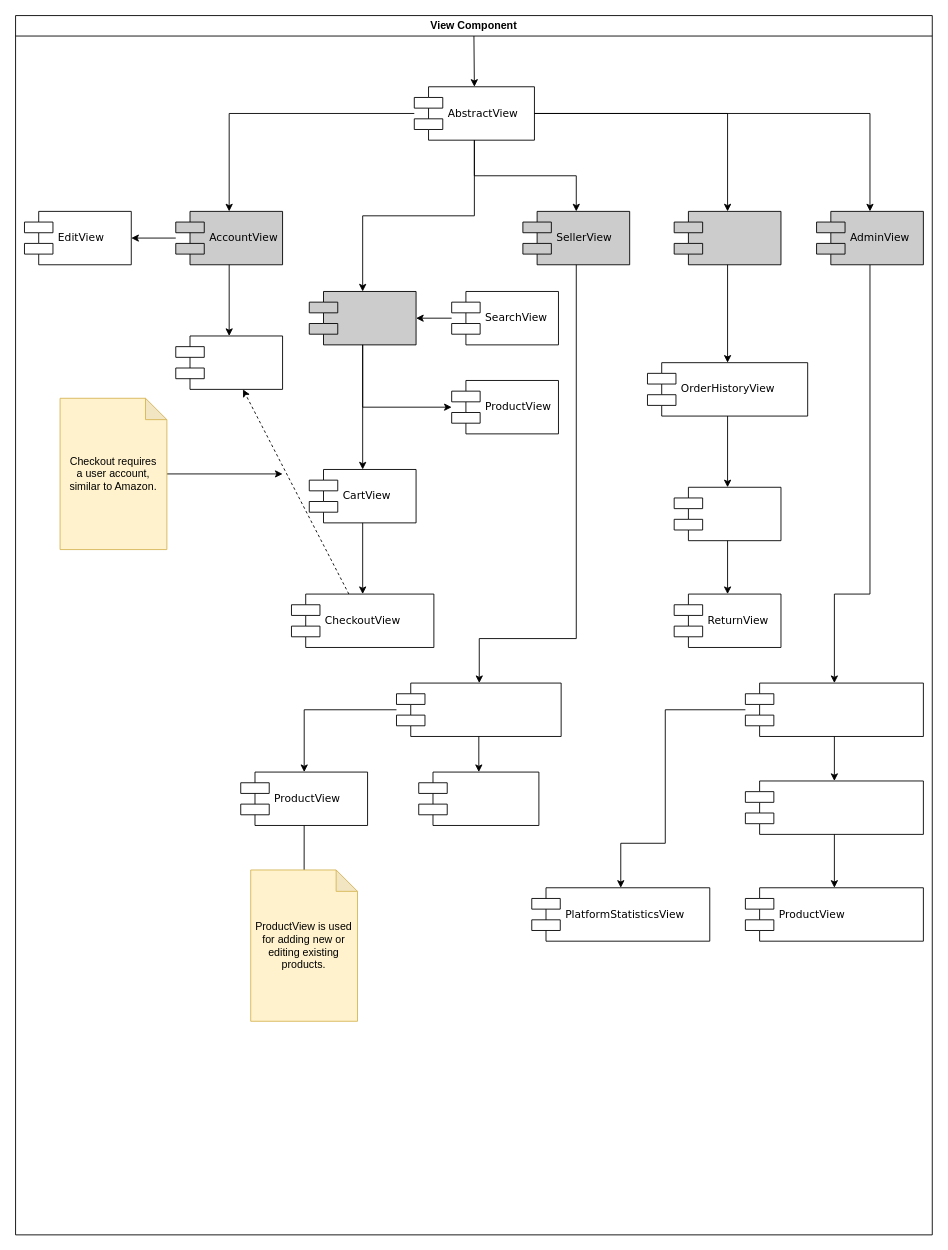
Image size: 948x1250. Some labels were removed from this diagram. Each missing label, with the centre of its shape:
"ApproveProductsView" goes at point (833, 807).
"BrowseView" goes at point (362, 318).
"BuyerView" goes at point (727, 237).
"LoginView" goes at point (229, 362).
"ManagePlatformView" goes at point (833, 709).
"ManageProductsView" goes at point (478, 709).
"OrderView" goes at point (727, 513).
"StatisticsView" goes at point (478, 798).
